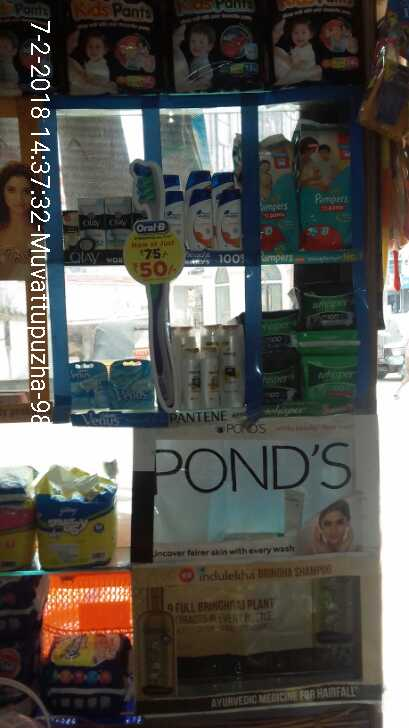venus: (111, 356, 153, 408), (70, 358, 111, 408)
